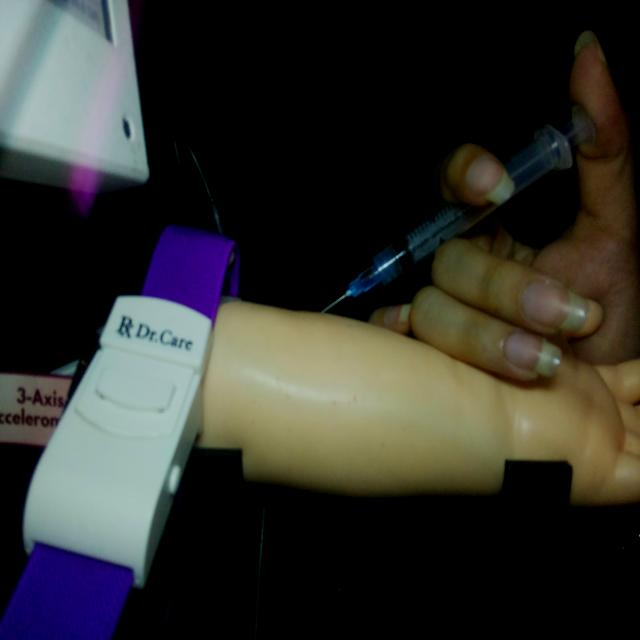23 degrees: (319, 101, 597, 316)
